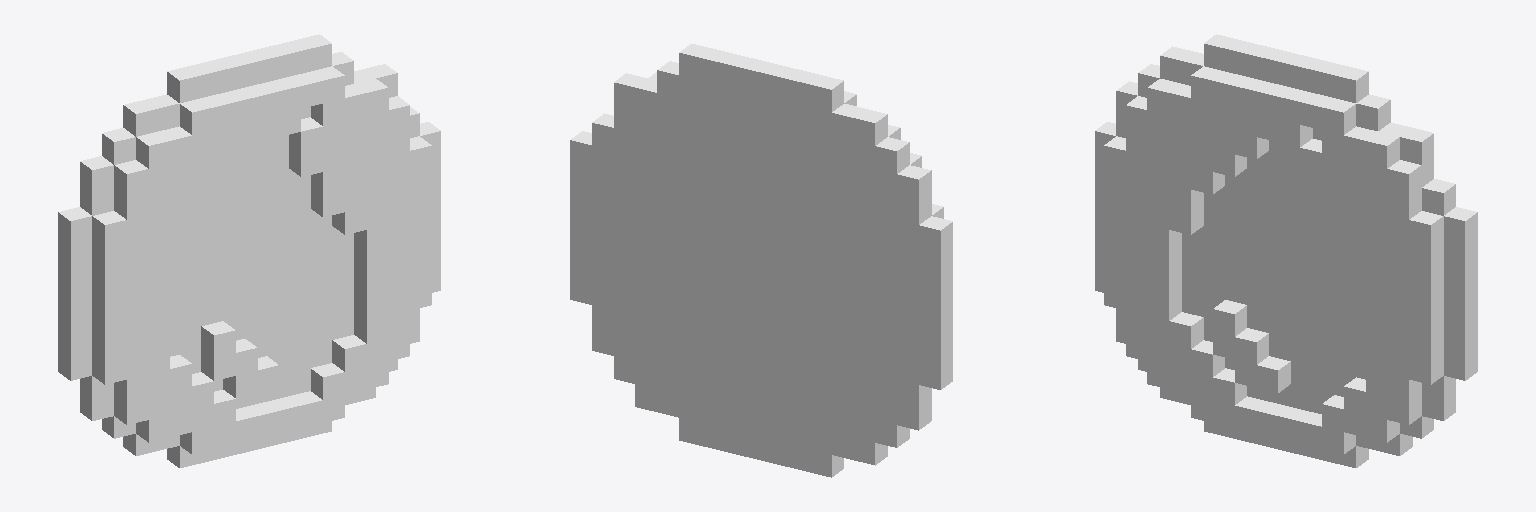
The model's file is energy-water.obj.
3 renders of one model, left to right at view 1: azimuth 30°, elevation 25°; view 2: azimuth 150°, elevation 25°; view 3: azimuth 330°, elevation 25°, orthographic.
Parts seen in each view (by area): view 1: object 1; view 2: object 1; view 3: object 1.
Boxes of the visible parts, x1,y1,x2,y2 form: object 1: [58, 34, 440, 467]; object 1: [570, 44, 952, 477]; object 1: [1095, 34, 1477, 467].
Size of the model in its own units: 1.7 by 1.7 by 0.2.